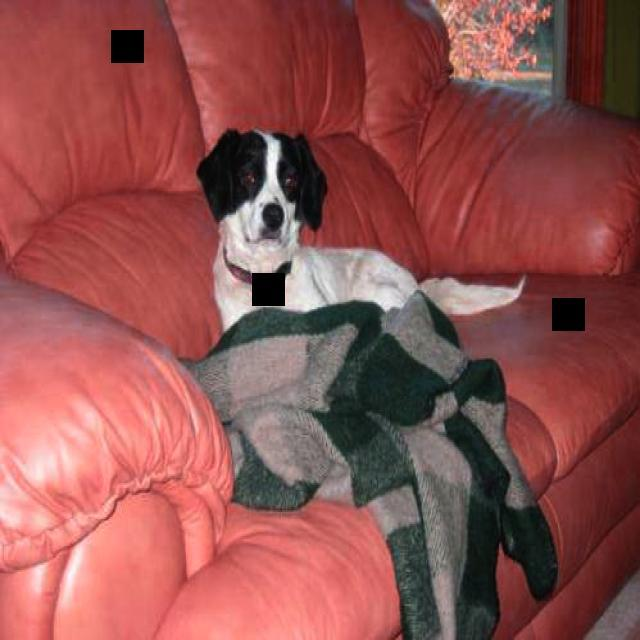adult_dog: (198, 127, 528, 331)
